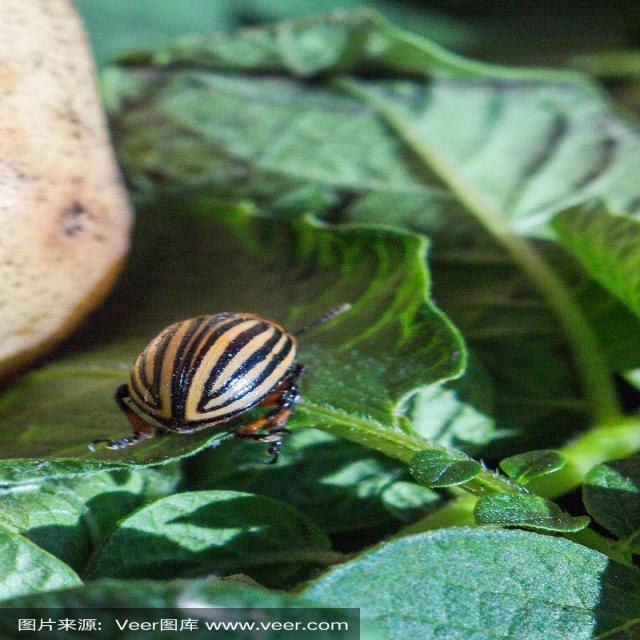ShuCaiHuaBanChong-Grown-: (126, 288, 330, 450)
